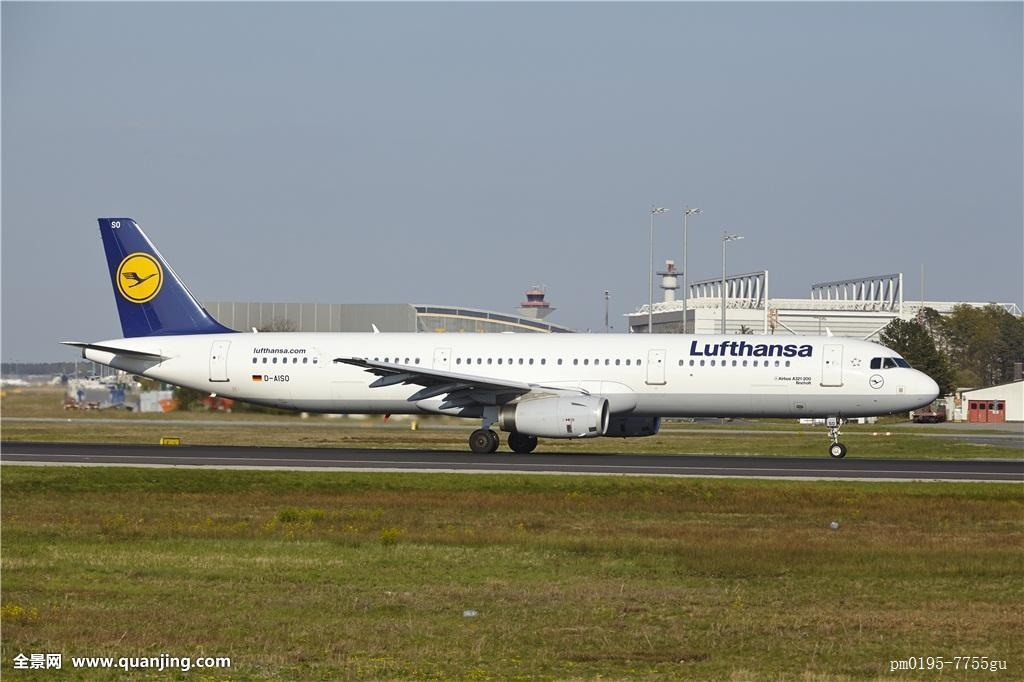airplane: (57, 212, 941, 454)
